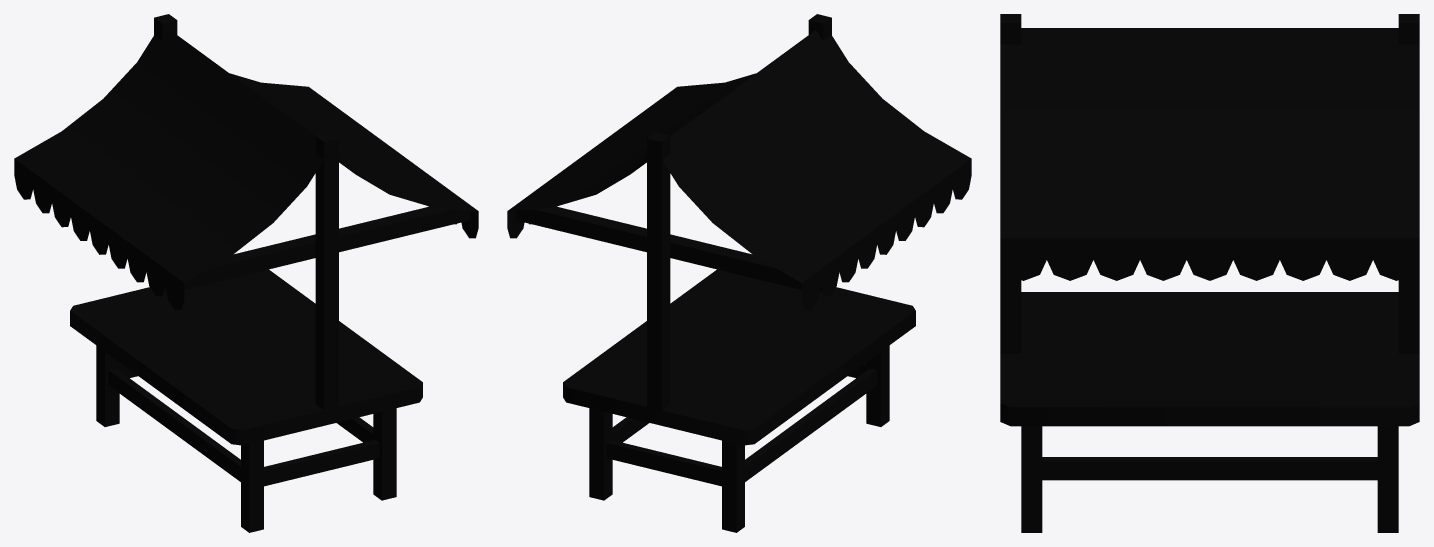
Rendered from stall-green.glb.
The picture shows the model from 3 angles, left to right: view 1: azimuth 30°, elevation 25°; view 2: azimuth 150°, elevation 25°; view 3: azimuth 270°, elevation 25°; orthographic projection. The views are drawn at different scales.
Visible parts, largest first — view 1: stall-green; view 2: stall-green; view 3: stall-green.
Boxes of the visible parts, x1,y1,x2,y2 form: stall-green: [14, 14, 478, 532]; stall-green: [507, 14, 971, 532]; stall-green: [1000, 14, 1419, 532].
Size of the model in its own units: 1 by 1.24 by 1.
Materials: 1 (1 with a texture image).
